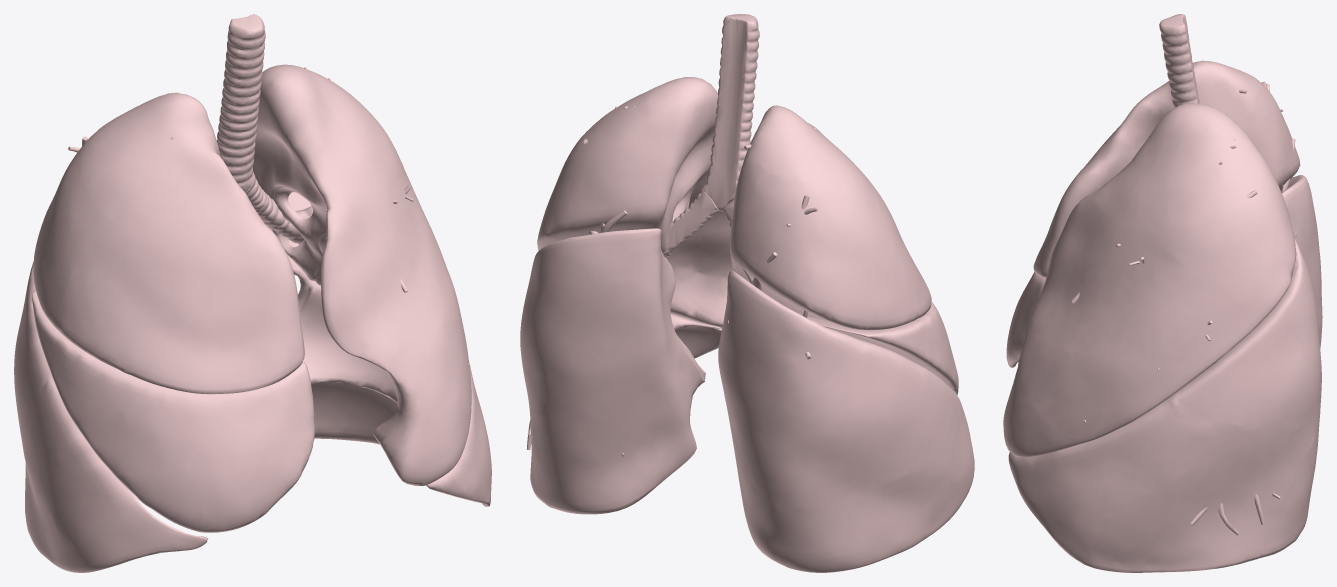
File: respiratoire-thorax.hi.glb
3 renders of one model, left to right at view 1: azimuth 30°, elevation 25°; view 2: azimuth 150°, elevation 25°; view 3: azimuth 270°, elevation 25°, orthographic. The views are drawn at different scales.
Parts seen in each view (by area): view 1: ZA-superior-lobe-of-right-lung, ZA-superior-lobe-of-left-lung, ZA-middle-lobe-of-right-lung, ZA-inferior-lobe-of-right-lung, ZA-inferior-lobe-of-left-lung, FJ2541, FJ2450; view 2: ZA-inferior-lobe-of-right-lung, ZA-inferior-lobe-of-left-lung, ZA-superior-lobe-of-right-lung, ZA-superior-lobe-of-left-lung, FJ2541, ZA-middle-lobe-of-right-lung, FJ2450; view 3: ZA-superior-lobe-of-left-lung, ZA-inferior-lobe-of-left-lung, ZA-superior-lobe-of-right-lung, ZA-inferior-lobe-of-right-lung, FJ2541, ZA-middle-lobe-of-right-lung.
Part boxes in pixels (x1,y1,x2,y2): ZA-superior-lobe-of-right-lung: (33,92,304,394); ZA-superior-lobe-of-left-lung: (252,64,471,485); ZA-middle-lobe-of-right-lung: (32,290,314,532); ZA-inferior-lobe-of-right-lung: (14,262,208,572); ZA-inferior-lobe-of-left-lung: (288,192,491,506); FJ2541: (217,14,265,192); FJ2450: (246,178,312,244); ZA-inferior-lobe-of-right-lung: (718,271,974,572); ZA-inferior-lobe-of-left-lung: (520,228,721,514); ZA-superior-lobe-of-right-lung: (730,105,931,330); ZA-superior-lobe-of-left-lung: (537,77,751,328); FJ2541: (702,14,759,211); ZA-middle-lobe-of-right-lung: (807,302,958,394); FJ2450: (663,188,720,255); ZA-superior-lobe-of-left-lung: (1003,103,1296,457); ZA-inferior-lobe-of-left-lung: (1008,238,1321,572); ZA-superior-lobe-of-right-lung: (1033,60,1300,277); ZA-inferior-lobe-of-right-lung: (1282,175,1322,347); FJ2541: (1159,14,1199,107); ZA-middle-lobe-of-right-lung: (1006,272,1045,367).
Bounding box in the file's own units: 0.2503 × 0.2919 × 0.1814.
